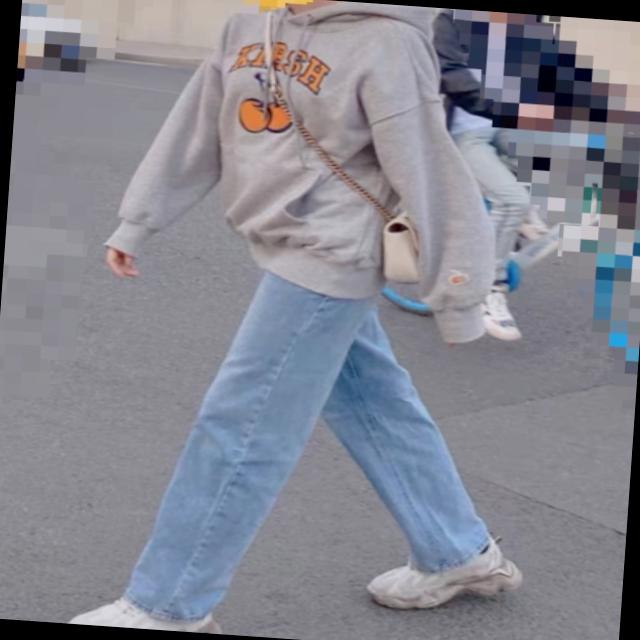denimpants: (114, 254, 514, 640)
hoodies: (106, 0, 526, 305)
